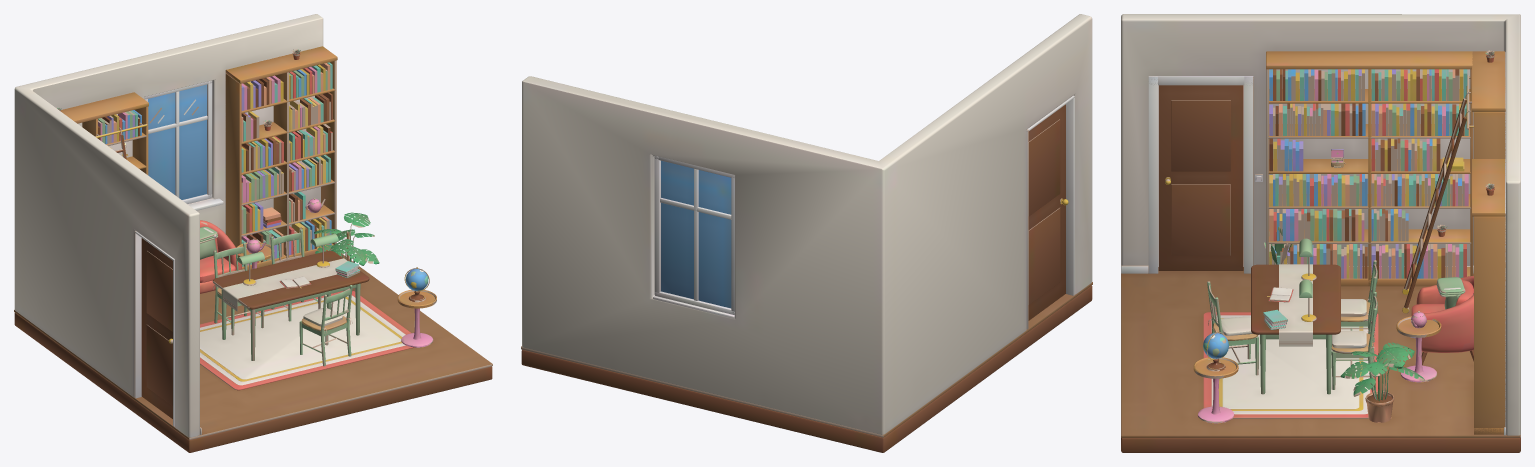
Rendered from library-room.glb.
3 views of the same model, side by side, from view 1: azimuth 30°, elevation 25°; view 2: azimuth 150°, elevation 25°; view 3: azimuth 270°, elevation 25° (orthographic). The views are drawn at different scales.
Visible parts, largest first — view 1: library-room_body; view 2: library-room_body; view 3: library-room_body.
Boxes of the visible parts, box(x1,y1,x2,y2) form: library-room_body: box(14, 14, 492, 452); library-room_body: box(521, 14, 1092, 452); library-room_body: box(1121, 14, 1520, 452).
Bounding box in the file's own units: 4 × 3 × 4.
5 materials, 1 textured.
